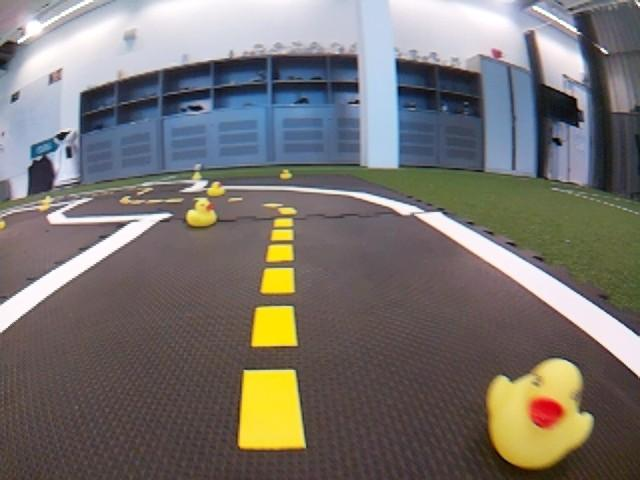Duckies: (486, 357, 592, 472), (186, 198, 216, 227), (206, 182, 225, 195), (41, 195, 54, 205), (279, 170, 292, 179), (40, 202, 50, 213), (0, 219, 6, 231), (193, 172, 201, 180)
